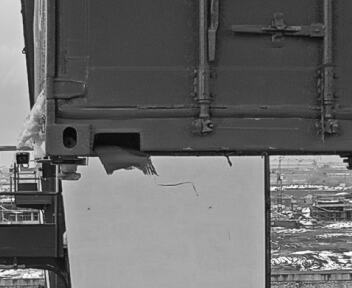twist_lock_1: (45, 150, 91, 187)
